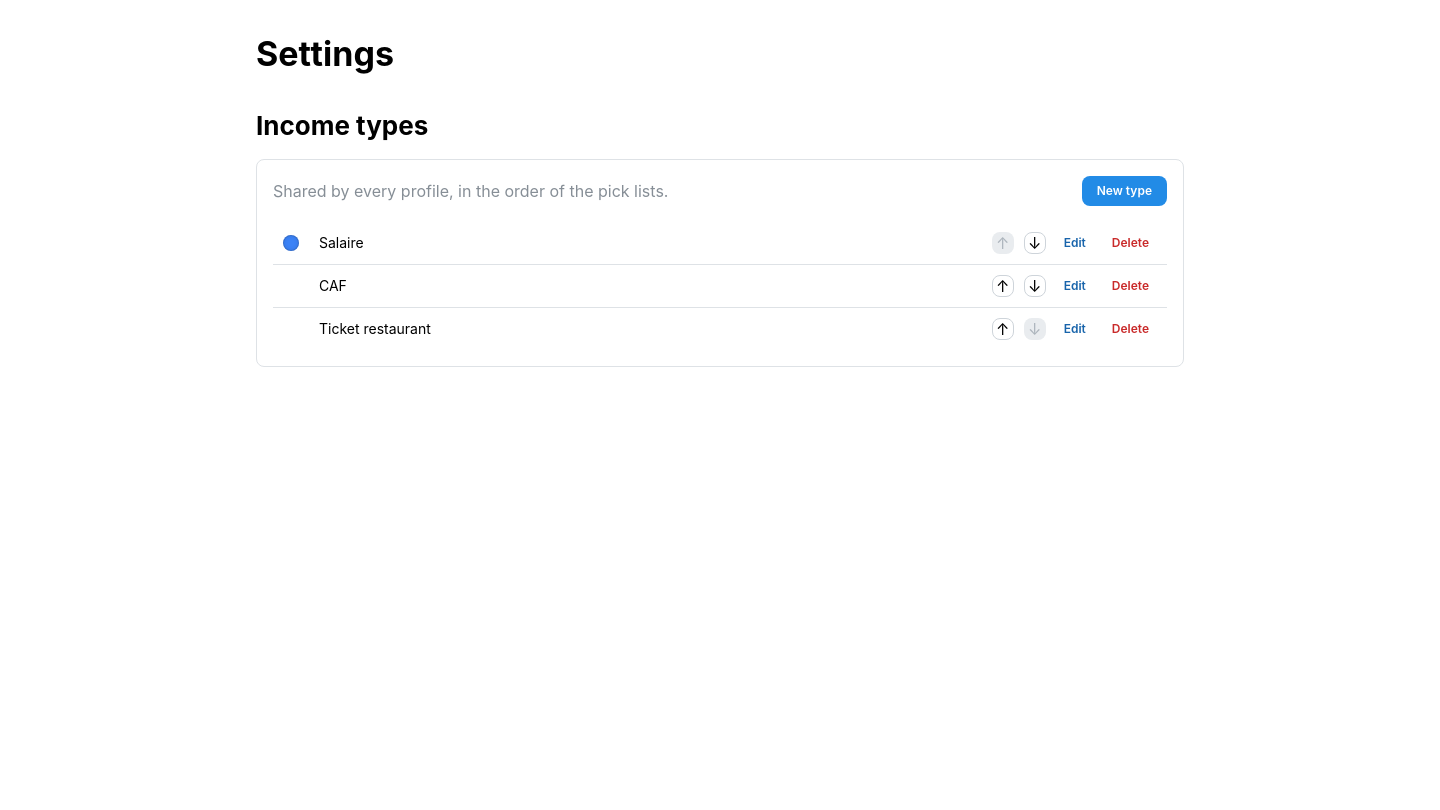
IncomeTypesSection › creates a type
Click the button "New type". click: (1124,191)
box: top-left (1082, 176), bottom-right (1167, 206)
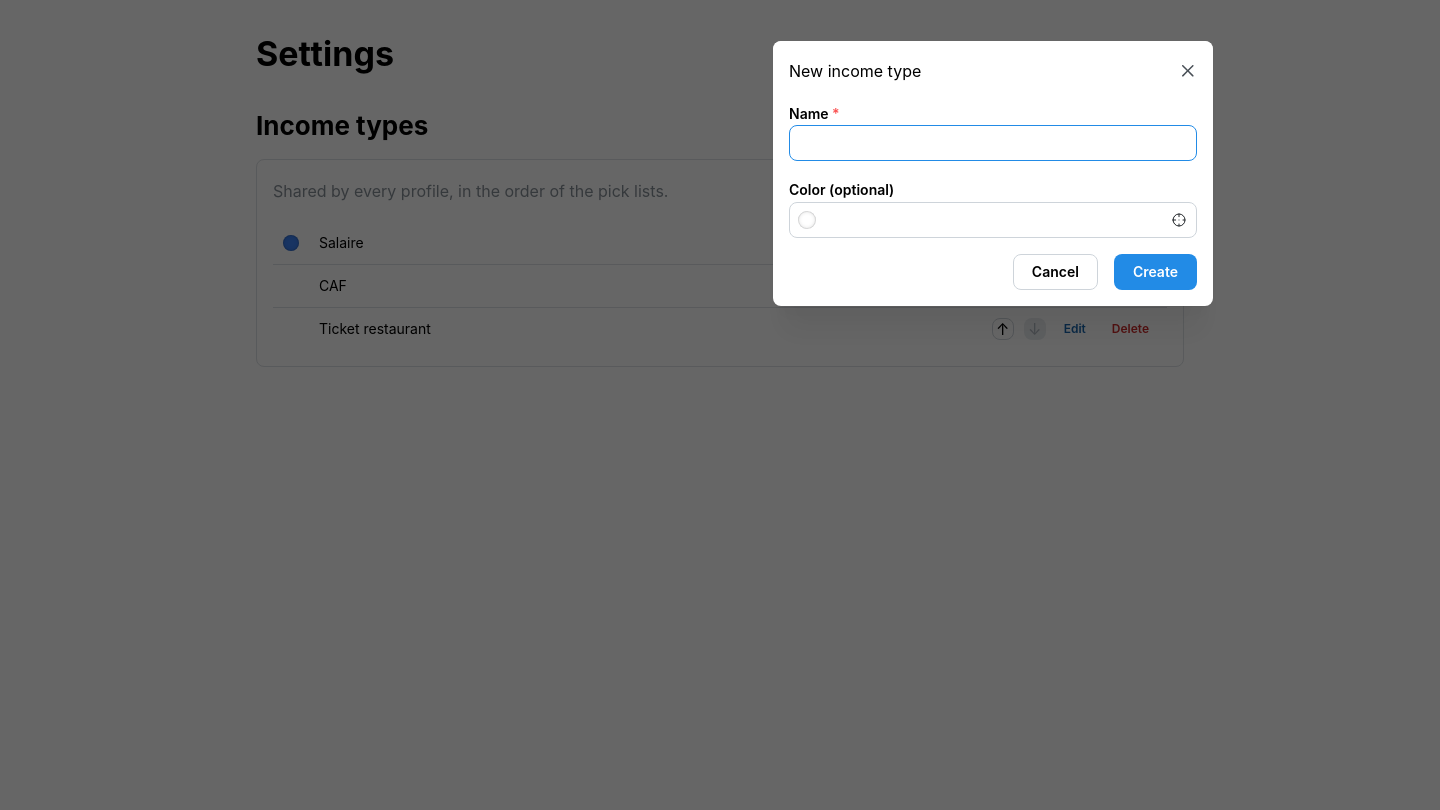
Type " Prime " into the field labelled "Name". click: (993,143)
box: top-left (789, 125), bottom-right (1197, 161)
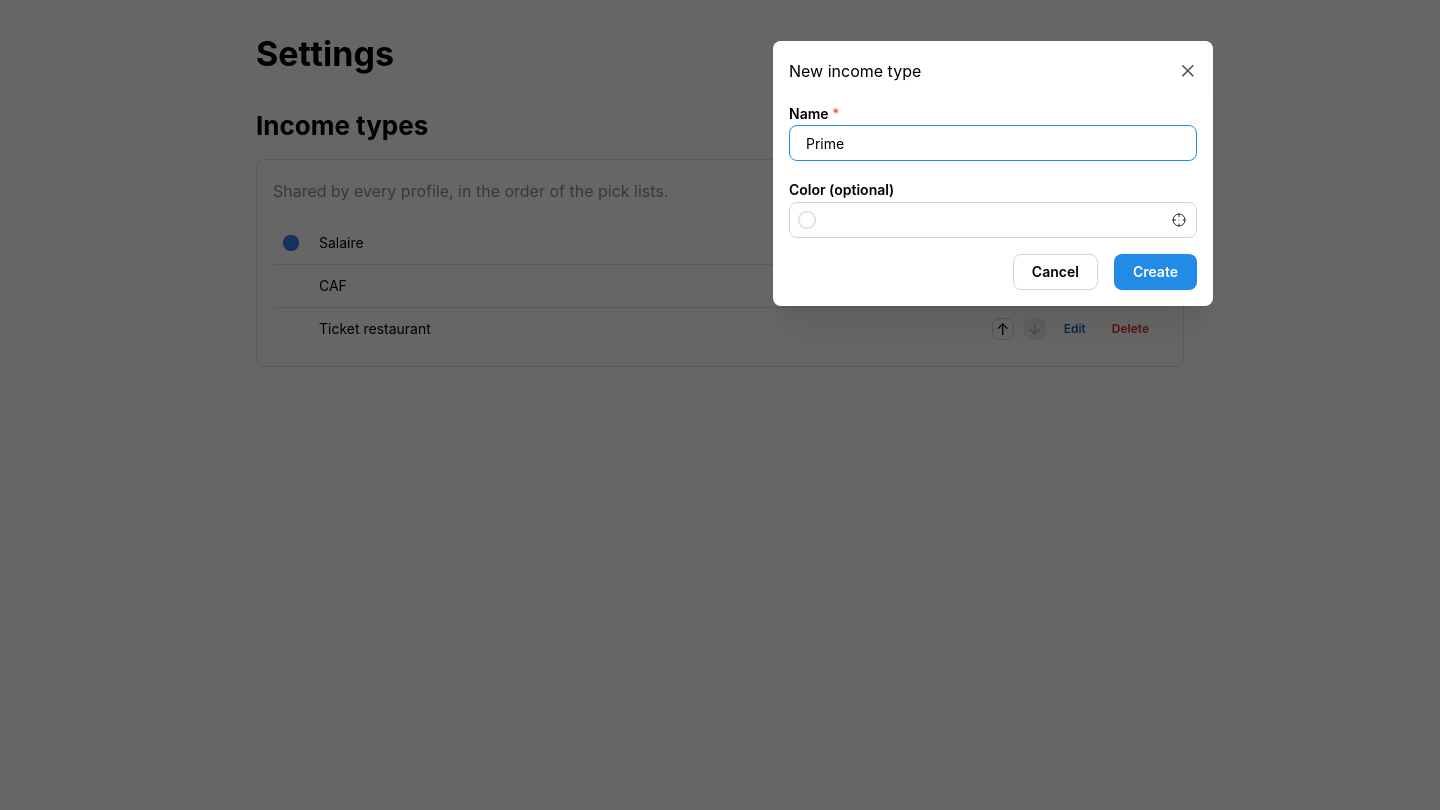
Click the button "Create". click: (1155,272)
box: top-left (1114, 254), bottom-right (1197, 290)
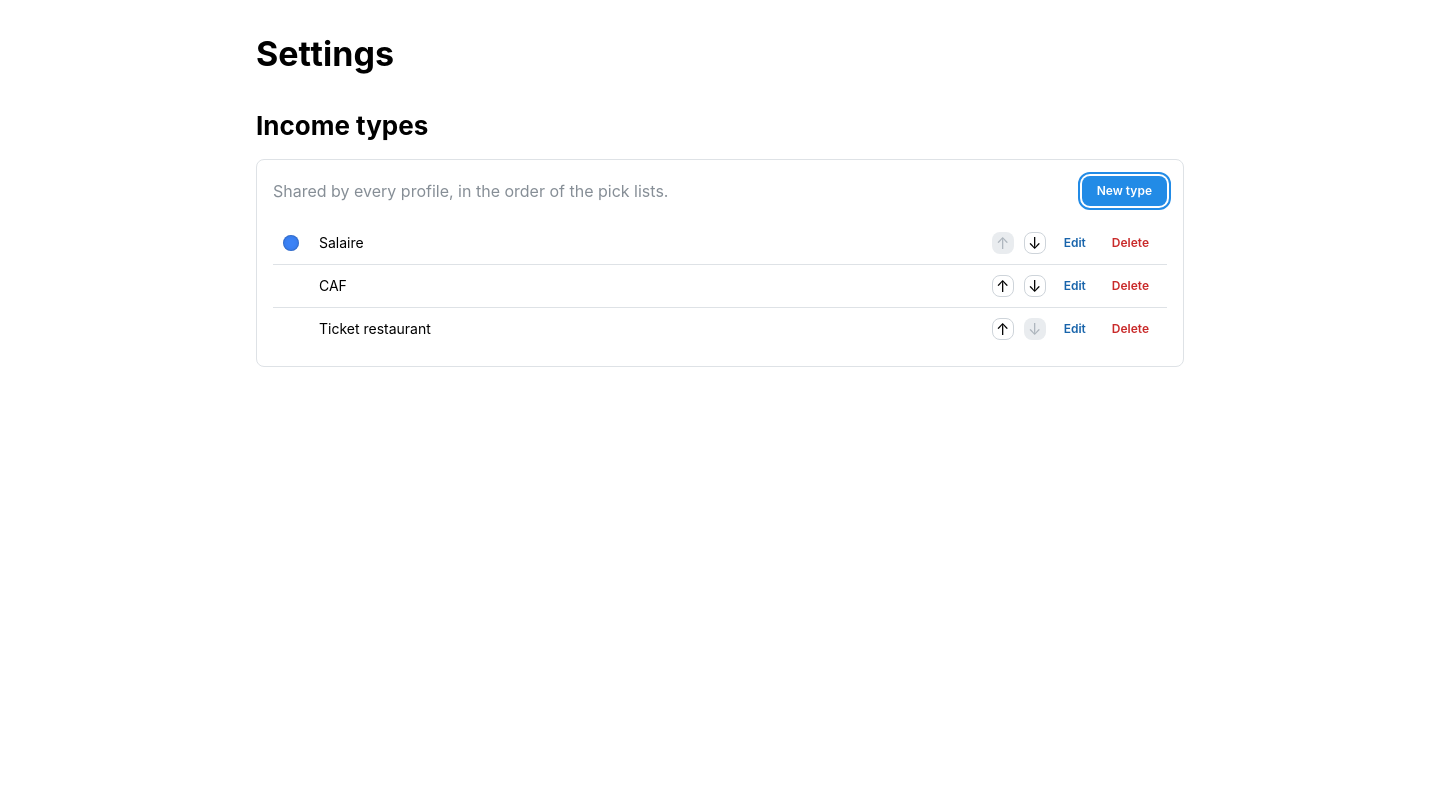
Now the dialog is gone
